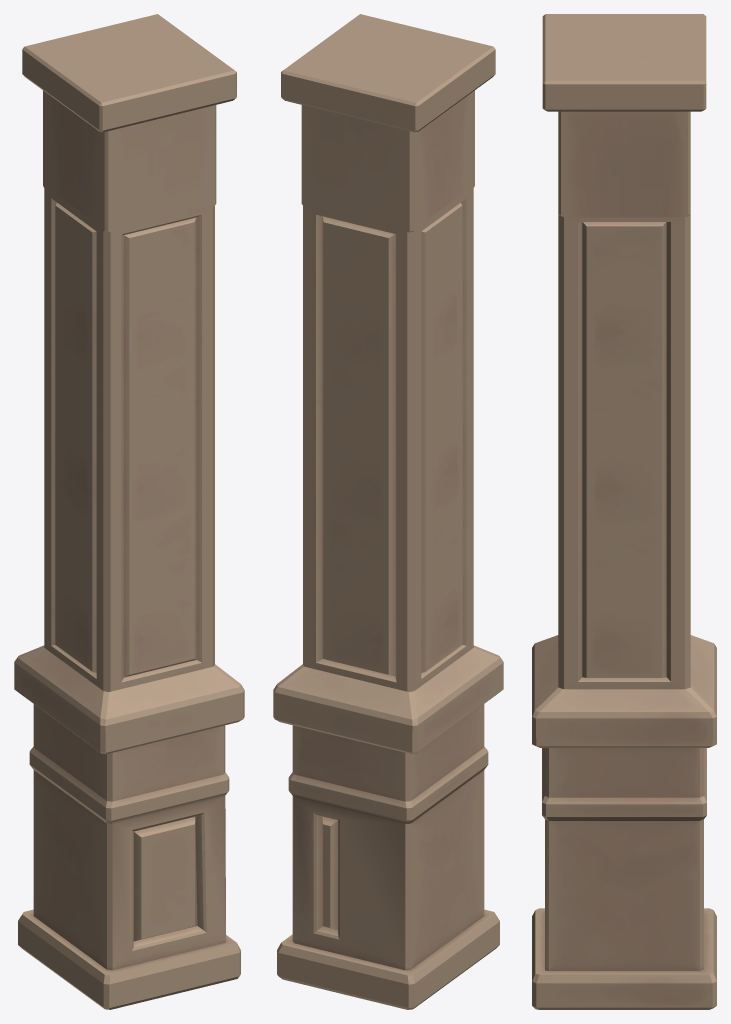
File: ColumnFull.fbx
3 views of the same model, side by side, from view 1: azimuth 30°, elevation 25°; view 2: azimuth 150°, elevation 25°; view 3: azimuth 270°, elevation 25° (orthographic). The views are drawn at different scales.
Visible parts, largest first — view 1: column2Middle1, ColumnFull (6), column2Top; view 2: column2Middle1, ColumnFull (6), column2Top; view 3: column2Middle1, ColumnFull (6), column2Top.
Boxes of the visible parts, x1,y1,x2,y2 form: column2Middle1: (44, 186, 214, 691); ColumnFull (6): (14, 645, 244, 1009); column2Top: (22, 14, 236, 232); column2Middle1: (303, 186, 473, 691); ColumnFull (6): (273, 645, 503, 1009); column2Top: (281, 14, 495, 232); column2Middle1: (558, 215, 690, 689); ColumnFull (6): (532, 635, 716, 1009); column2Top: (542, 14, 706, 217).
Bounding box in the file's own units: 2.96 × 17.7 × 3.19.
